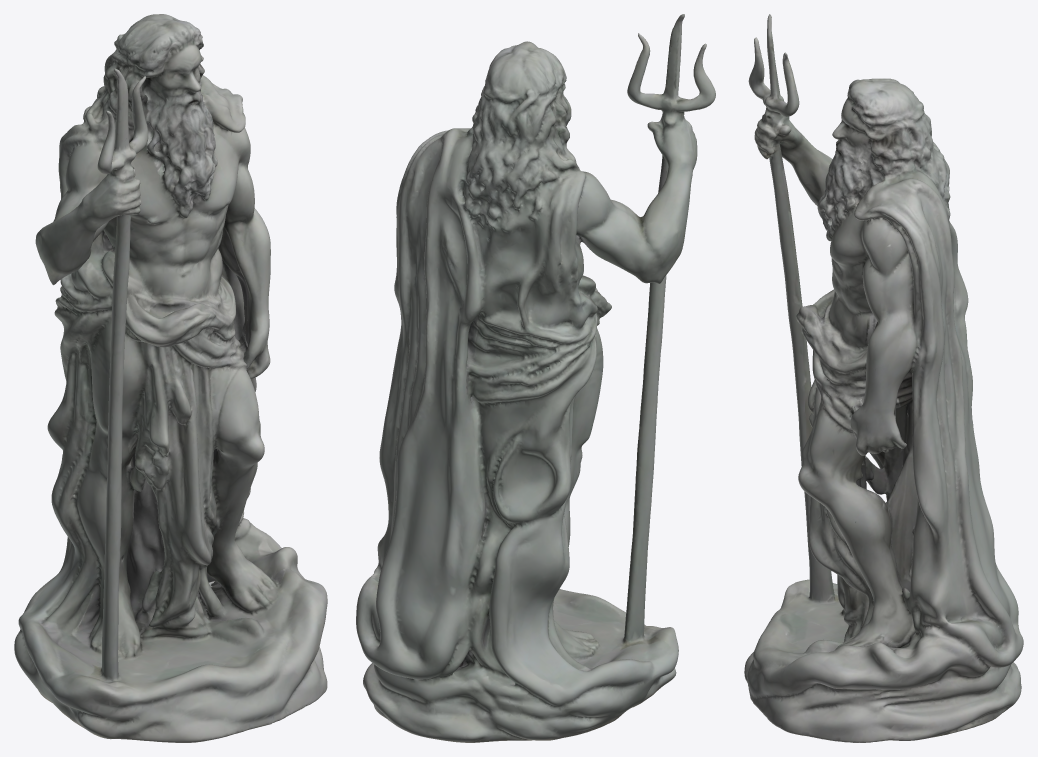
The model's file is poseidon.glb.
The picture shows the model from 3 angles, left to right: view 1: azimuth 30°, elevation 25°; view 2: azimuth 150°, elevation 25°; view 3: azimuth 270°, elevation 25°; orthographic projection. The views are drawn at different scales.
Parts seen in each view (by area): view 1: Object_4; view 2: Object_4; view 3: Object_4.
Boxes of the visible parts, bbox=[...] form: Object_4: bbox=[14, 14, 327, 742]; Object_4: bbox=[356, 14, 715, 742]; Object_4: bbox=[744, 14, 1023, 742].
Size of the model in its own units: 0.8679 by 2 by 0.8162.
Materials: 1 (1 with a texture image).
